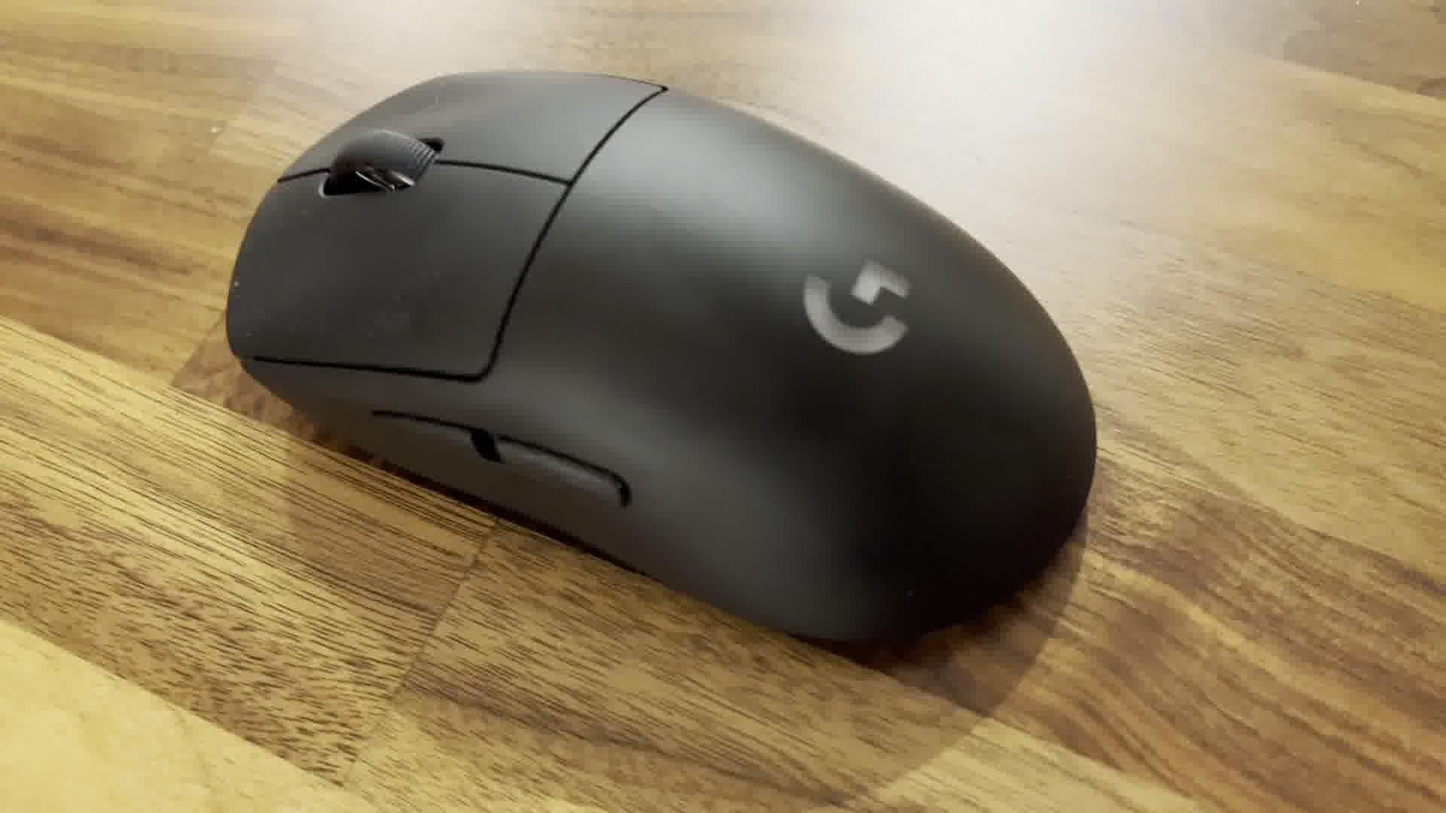mouse: (220, 62, 1101, 655)
